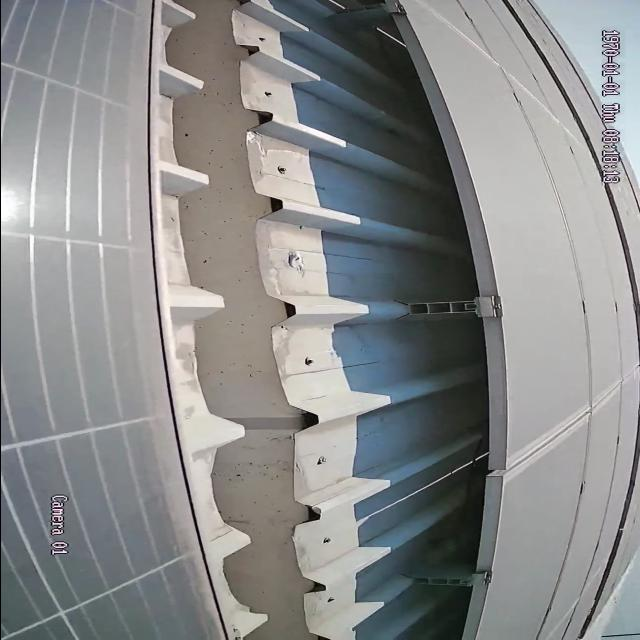interior panel: (509, 368, 634, 481)
outher panel: (149, 0, 498, 640)
